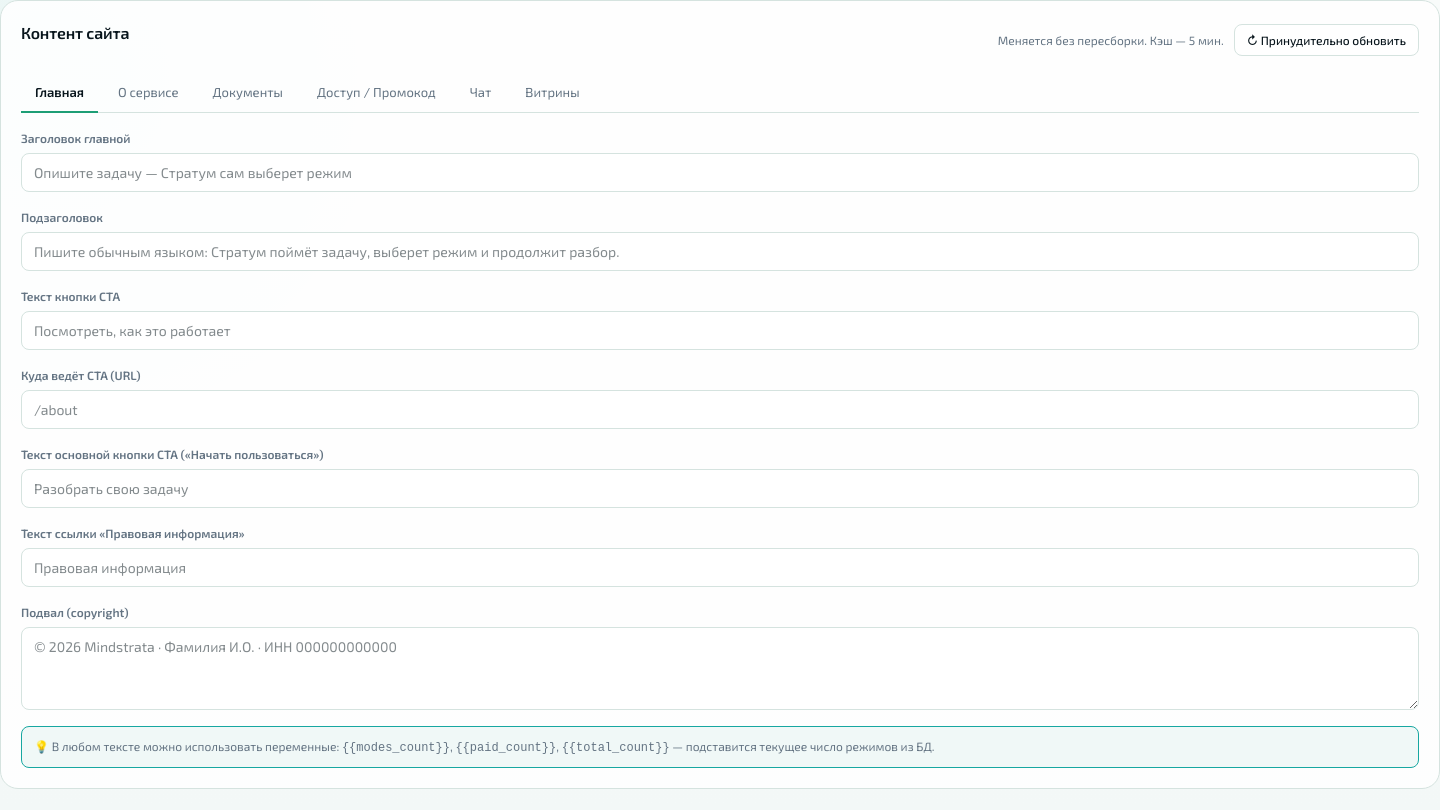
Scenario: AdminContentTab — auto-save flow › вкладка «Доступ / Промокод» редактирует кнопку магазина
Click the button "Доступ / Промокод" at [376, 94], box left=303, top=75, right=450, bottom=112
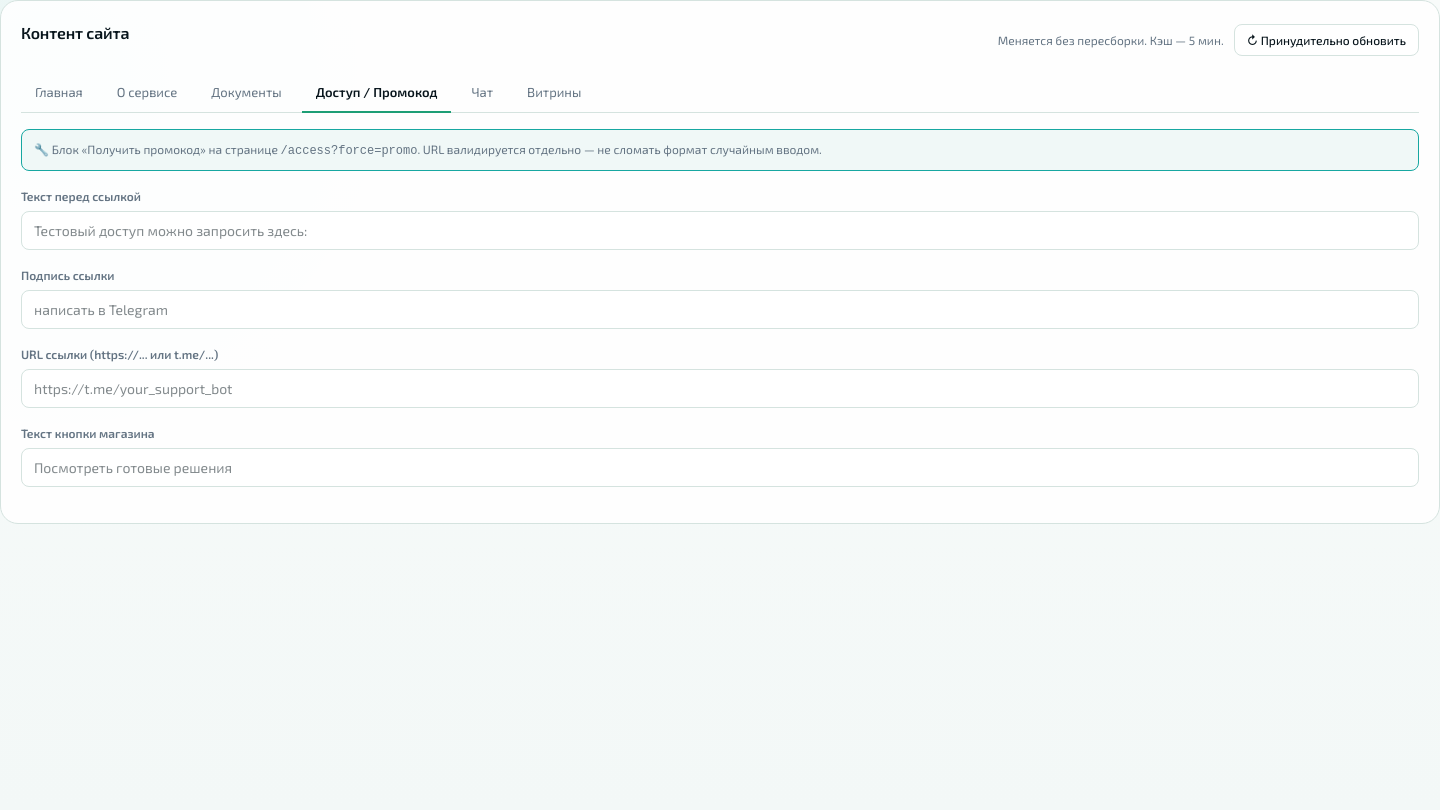
Now the text "Текст кнопки магазина" is shown, box left=21, top=424, right=155, bottom=442
Now the field with placeholder "Посмотреть готовые решения" is shown, box left=21, top=448, right=1419, bottom=486
